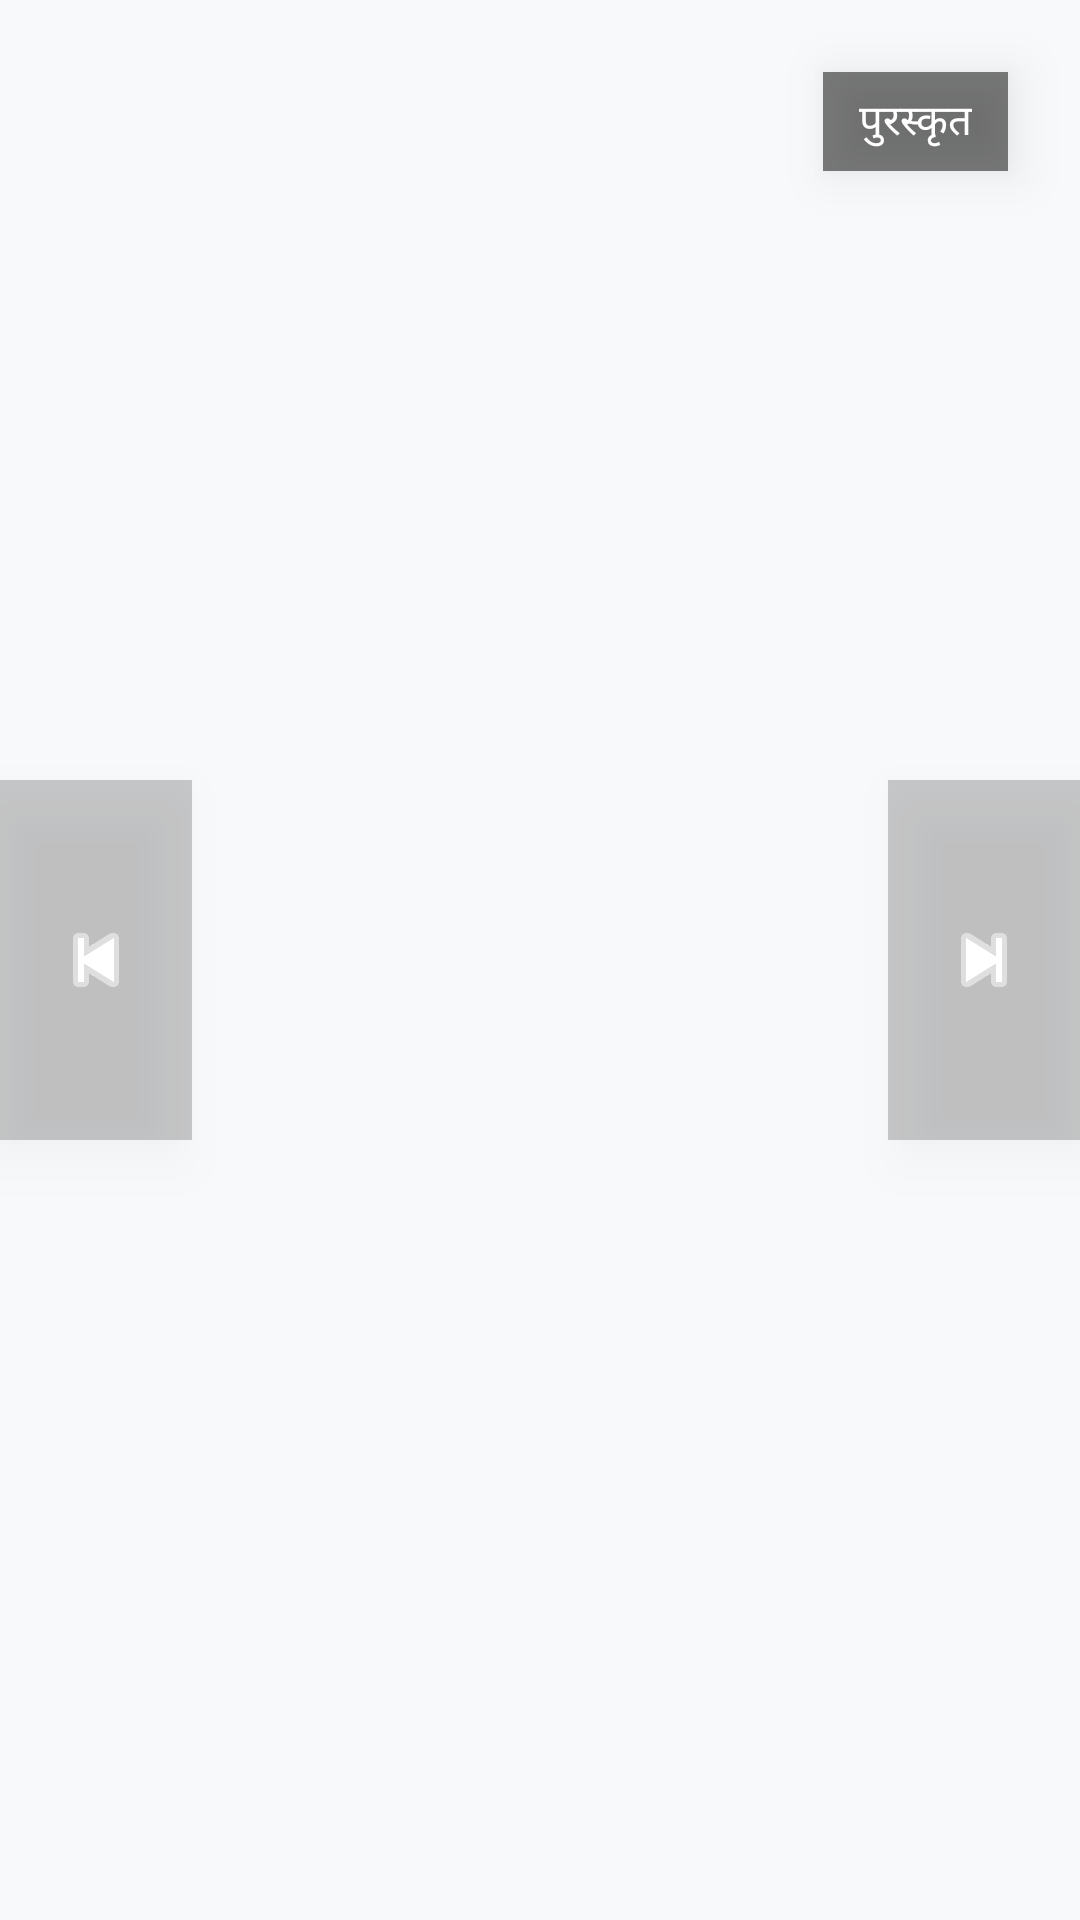

Where icons sit on this 1080 x 1920 app screen, as (x1, y1, x2, y2):
next: (888, 780, 1080, 1140)
previous: (0, 780, 192, 1140)
